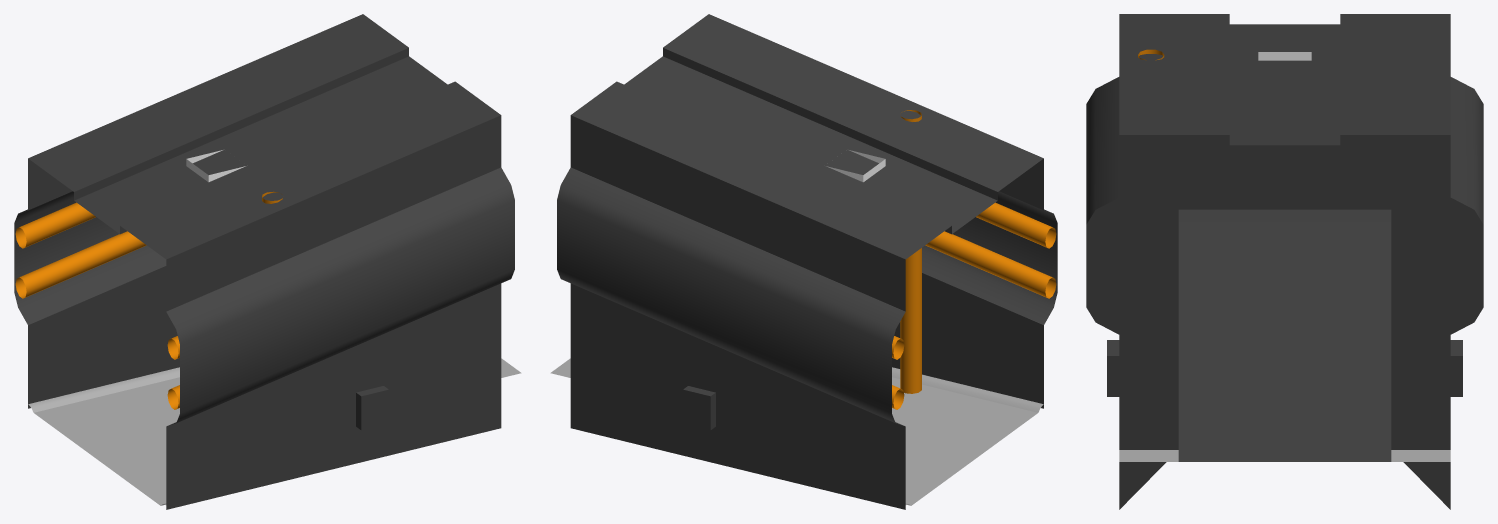
Rendered from emtrance.fbx.
3 renders of one model, left to right at view 1: azimuth 30°, elevation 25°; view 2: azimuth 150°, elevation 25°; view 3: azimuth 270°, elevation 25°, orthographic. The views are drawn at different scales.
Parts seen in each view (by area): view 1: int_entrance; view 2: int_entrance; view 3: int_entrance.
Boxes of the visible parts, <box> form: int_entrance: <box>14,14,521,509</box>; int_entrance: <box>550,14,1057,509</box>; int_entrance: <box>1086,14,1483,509</box>.
Size of the model in its own units: 2.97 by 2.5 by 2.4.
